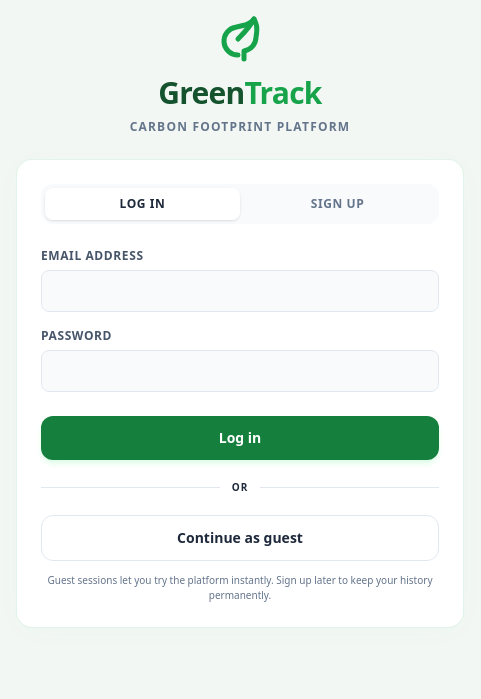
Test: AuthPage › shows error message with aria-live="polite" and role="alert" when login fails
In the field labelled "Email Address": x=240, y=291 [41,270,439,312], type "test@example.com"
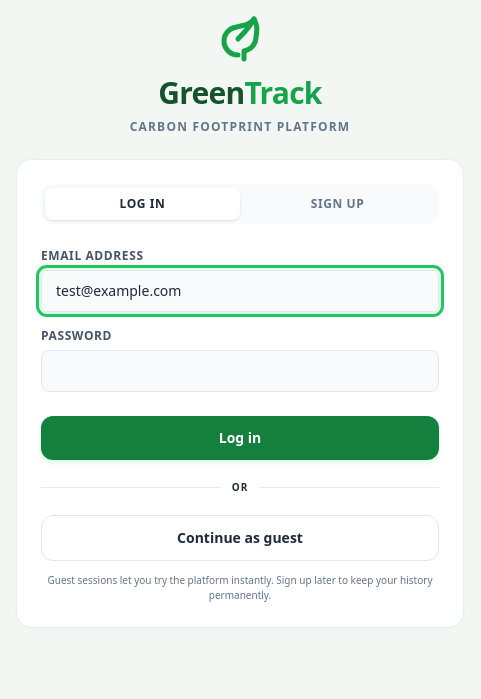
In the password field labelled "Password": x=240, y=371 [41,350,439,392], type "wrongpassword"
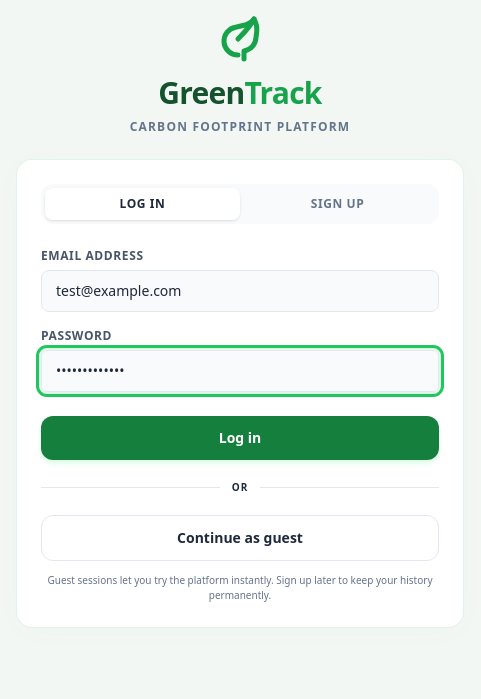
Click the button "Log in": x=240, y=438 [41,416,439,460]
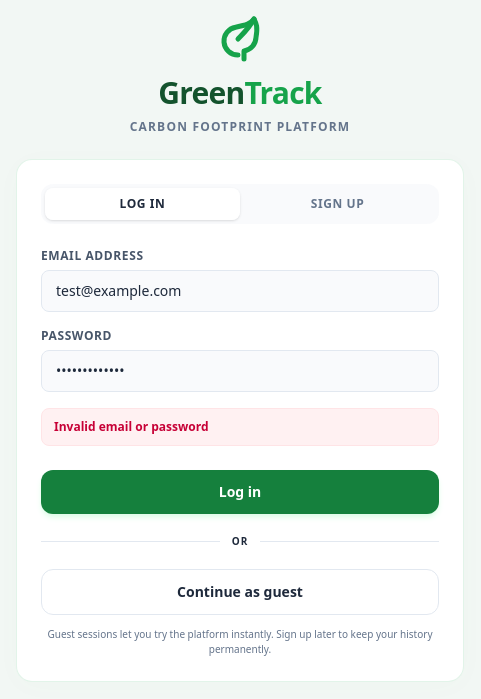
Result: the message "Invalid email or password" is shown at [41,408,439,446]
Result: the message reads "Invalid email or password" at [54,418,208,435]
